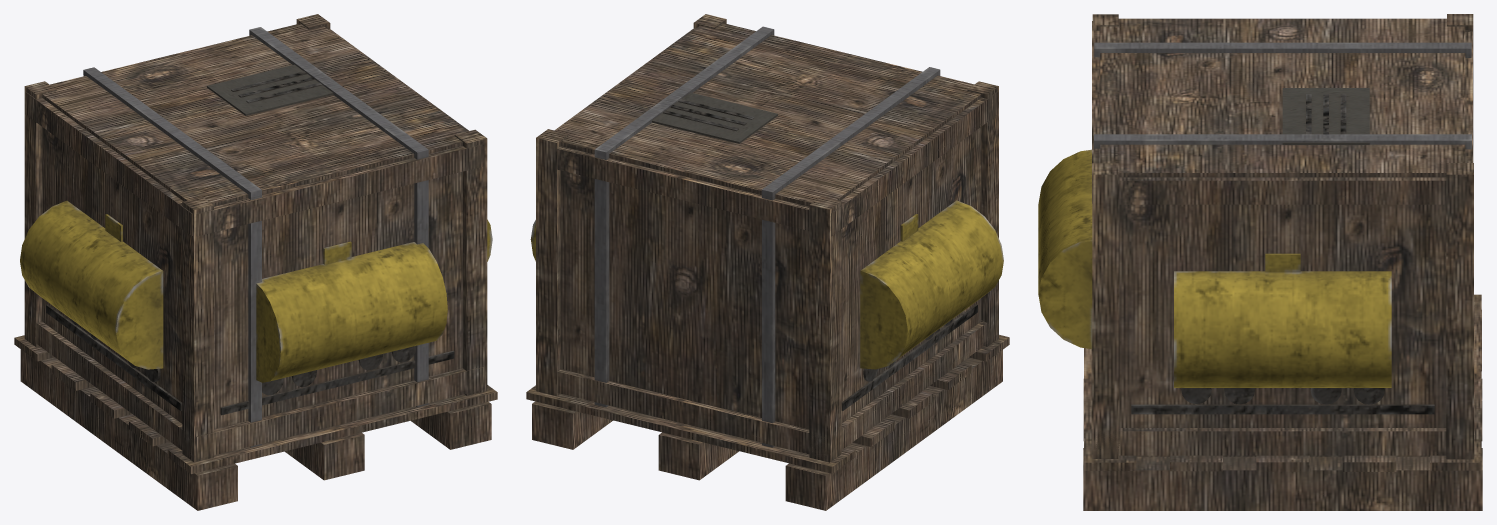
The model's file is feWagonTank_HD.fbx.
The picture shows the model from 3 angles, left to right: view 1: azimuth 30°, elevation 25°; view 2: azimuth 150°, elevation 25°; view 3: azimuth 270°, elevation 25°; orthographic projection. The views are drawn at different scales.
Visible parts, largest first — view 1: feWagonTank_Kit; view 2: feWagonTank_Kit; view 3: feWagonTank_Kit.
Boxes of the visible parts, x1,y1,x2,y2 form: feWagonTank_Kit: (14, 14, 497, 510); feWagonTank_Kit: (526, 14, 1009, 510); feWagonTank_Kit: (1038, 14, 1482, 510).
Size of the model in its own units: 1.13 by 0.8653 by 1.03.
Materials: 1 (1 with a texture image).
